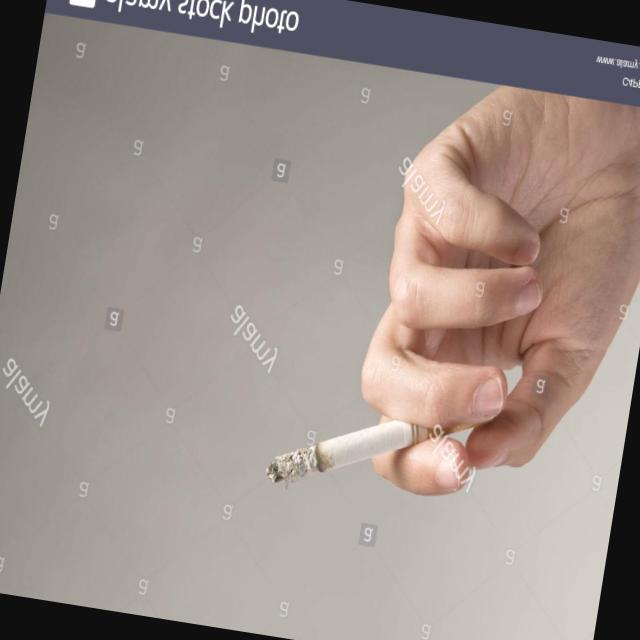cigarette: (263, 390, 467, 511)
